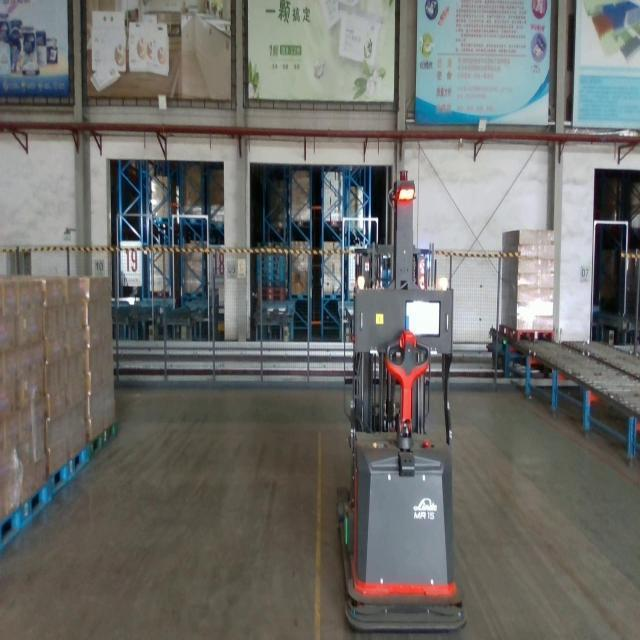forklift: (334, 167, 469, 638)
